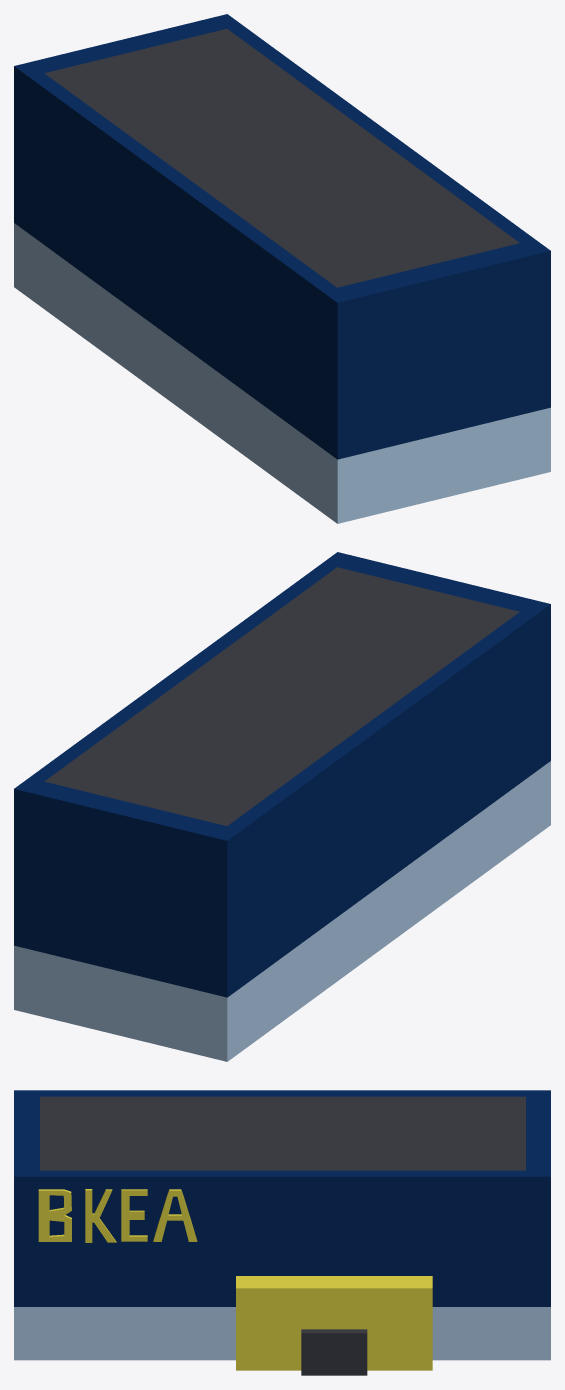
File: Bekea.fbx
3 views of the same model, one above another, from view 1: azimuth 30°, elevation 25°; view 2: azimuth 150°, elevation 25°; view 3: azimuth 270°, elevation 25° (orthographic). The views are drawn at different scales.
Parts seen in each view (by area): view 1: Bekea; view 2: Bekea; view 3: Bekea.
Part boxes in pixels (<box>): Bekea: <box>14,14,550,523</box>; Bekea: <box>14,552,550,1061</box>; Bekea: <box>14,1090,550,1375</box>.
Size of the model in its own units: 687 by 567 by 1504.
